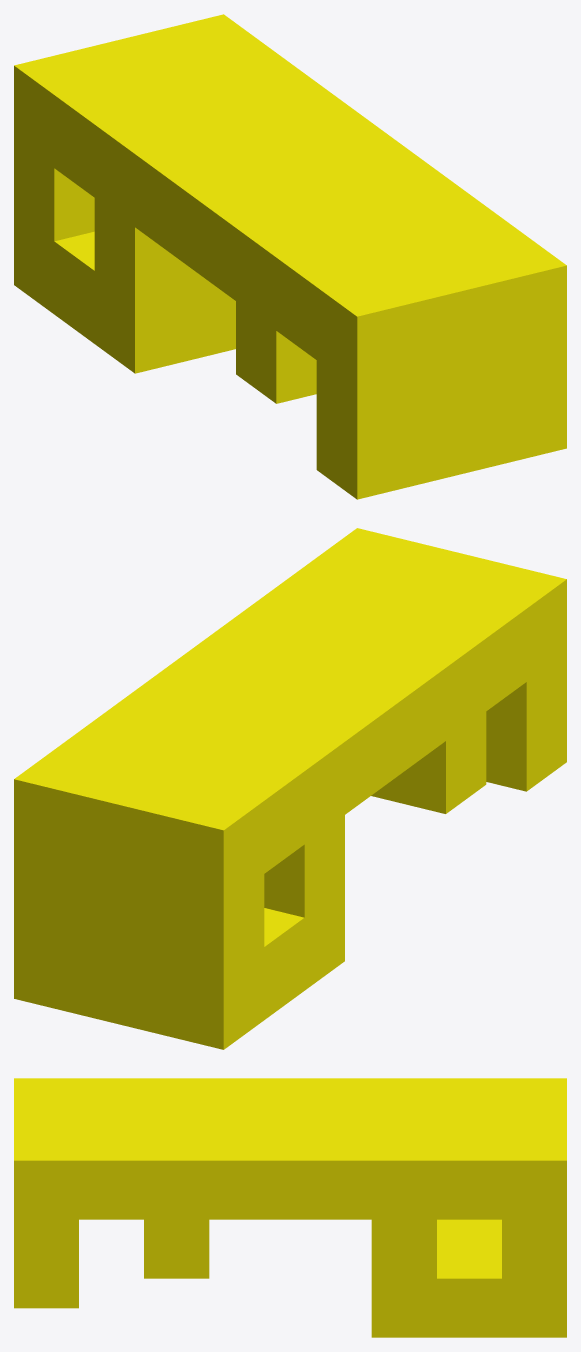
The model's file is Key.obj.
3 views of the same model, one above another, from view 1: azimuth 30°, elevation 25°; view 2: azimuth 150°, elevation 25°; view 3: azimuth 270°, elevation 25° (orthographic). The views are drawn at different scales.
Size of the model in its own units: 0.6 by 0.6 by 1.7.
Materials: 1 (1 with a texture image).
